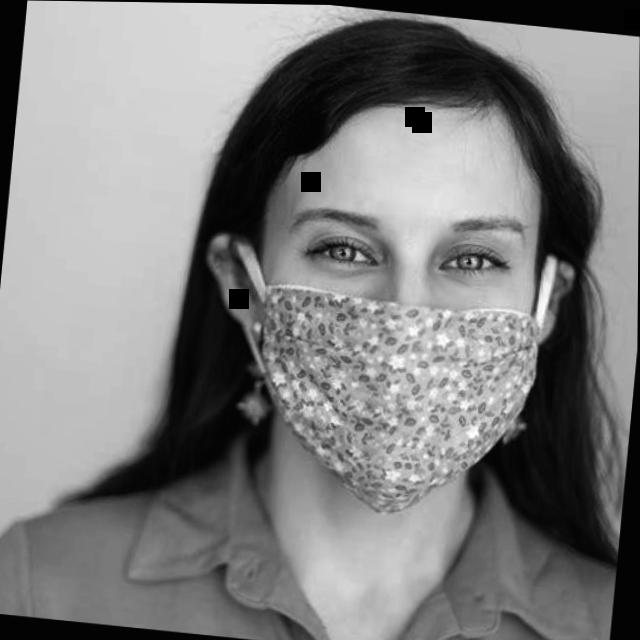Mask: (198, 7, 598, 505)
